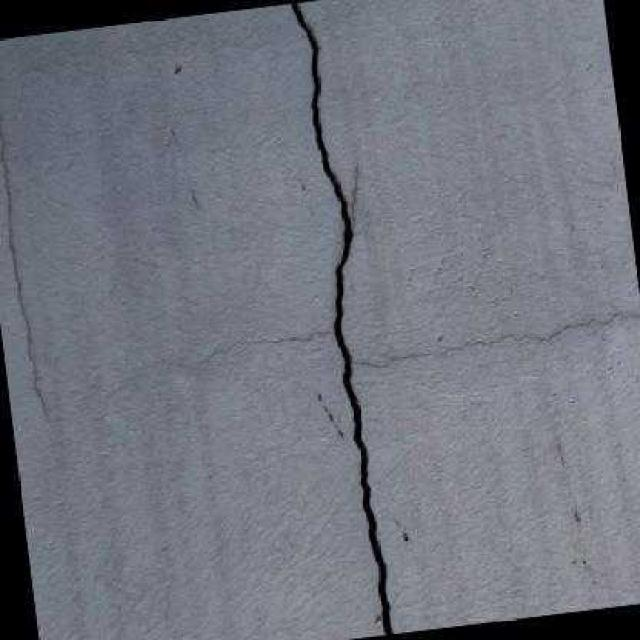D00: (289, 1, 392, 635)
